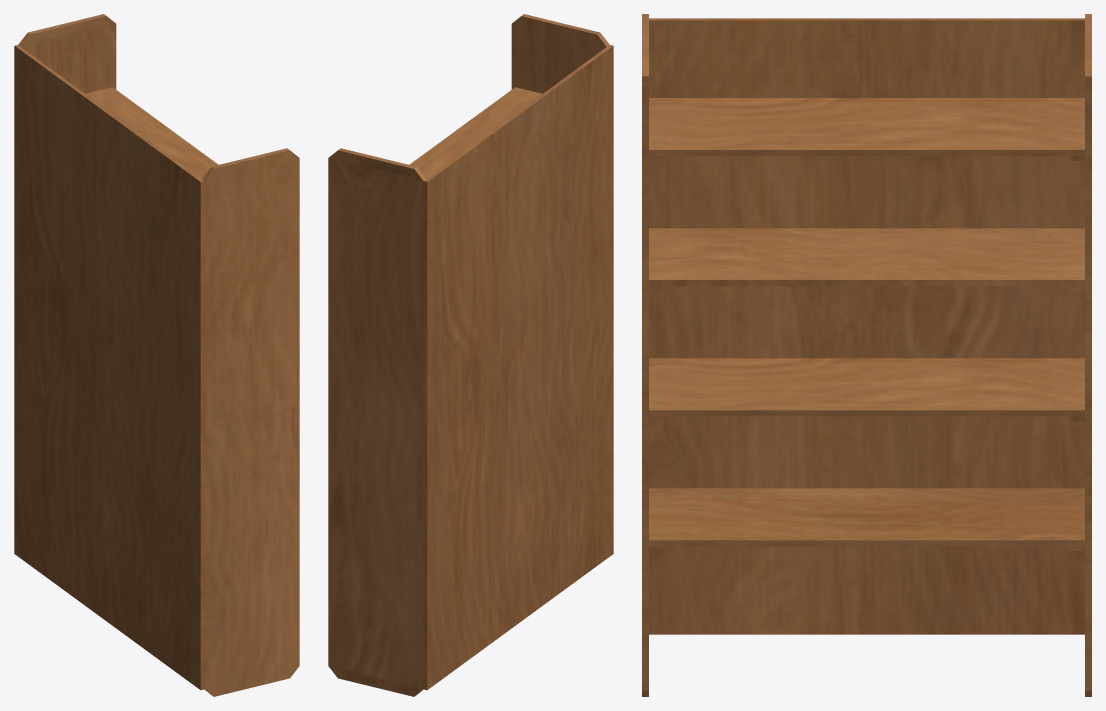
Rendered from bookcase_2.FBX.
The picture shows the model from 3 angles, left to right: view 1: azimuth 30°, elevation 25°; view 2: azimuth 150°, elevation 25°; view 3: azimuth 270°, elevation 25°; orthographic projection. The views are drawn at different scales.
Visible parts, largest first — view 1: bookcase_2; view 2: bookcase_2; view 3: bookcase_2.
Part boxes in pixels (x1,y1,x2,y2): bookcase_2: (14, 14, 299, 696); bookcase_2: (328, 14, 613, 696); bookcase_2: (642, 14, 1091, 696).
Size of the model in its own units: 14.23 by 72.67 by 46.45.
